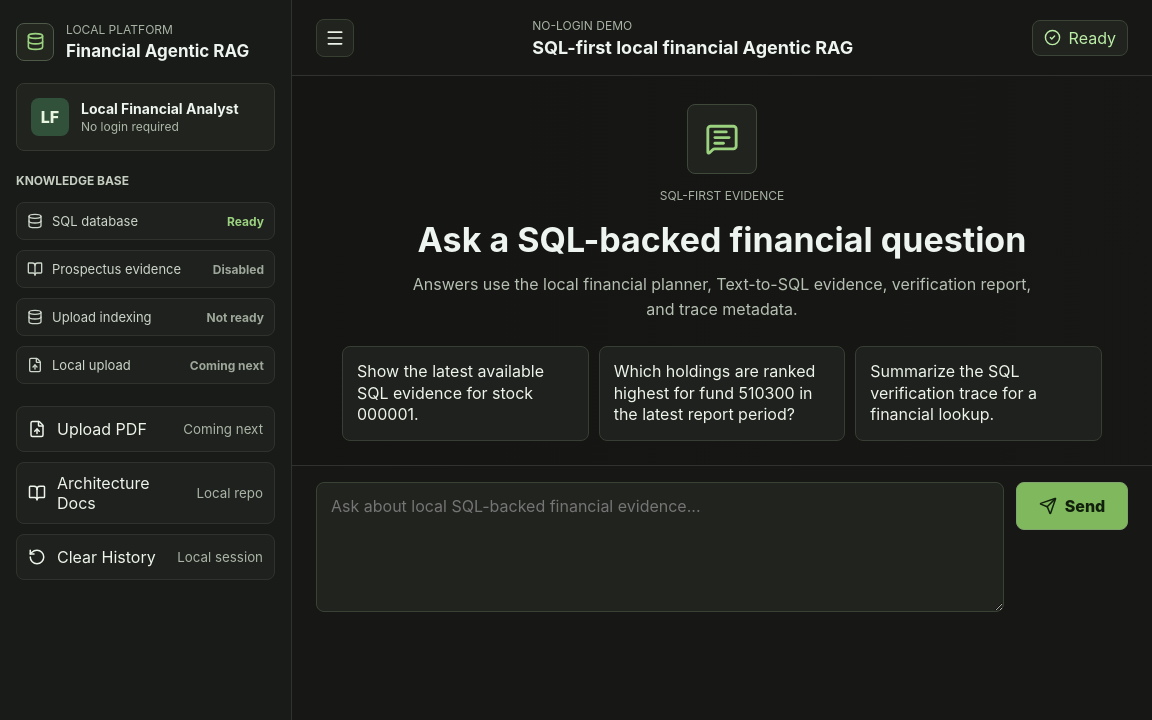
Test: local financial platform UI › renders readable API errors
Type "Broken" into the text box named "Financial question".
click(660, 547); type("Broken")  # box [316,482,1004,612]
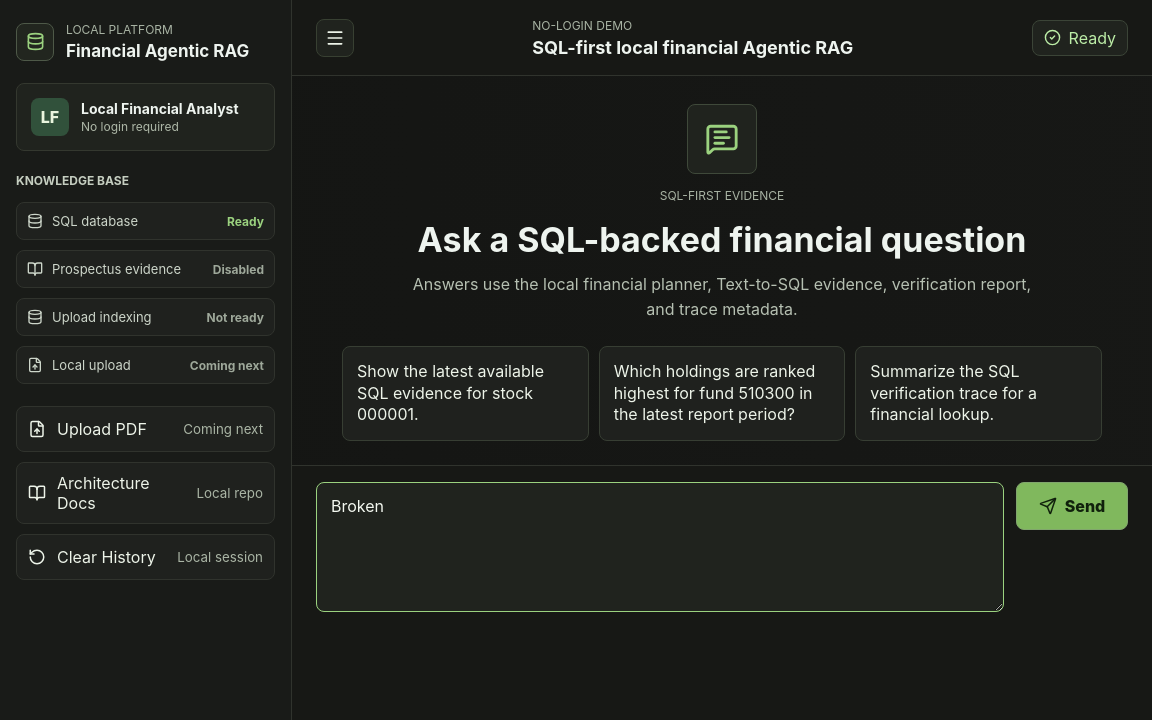
Click the button with aria-label "Send question".
click(1072, 506)  # box [1016,482,1128,530]
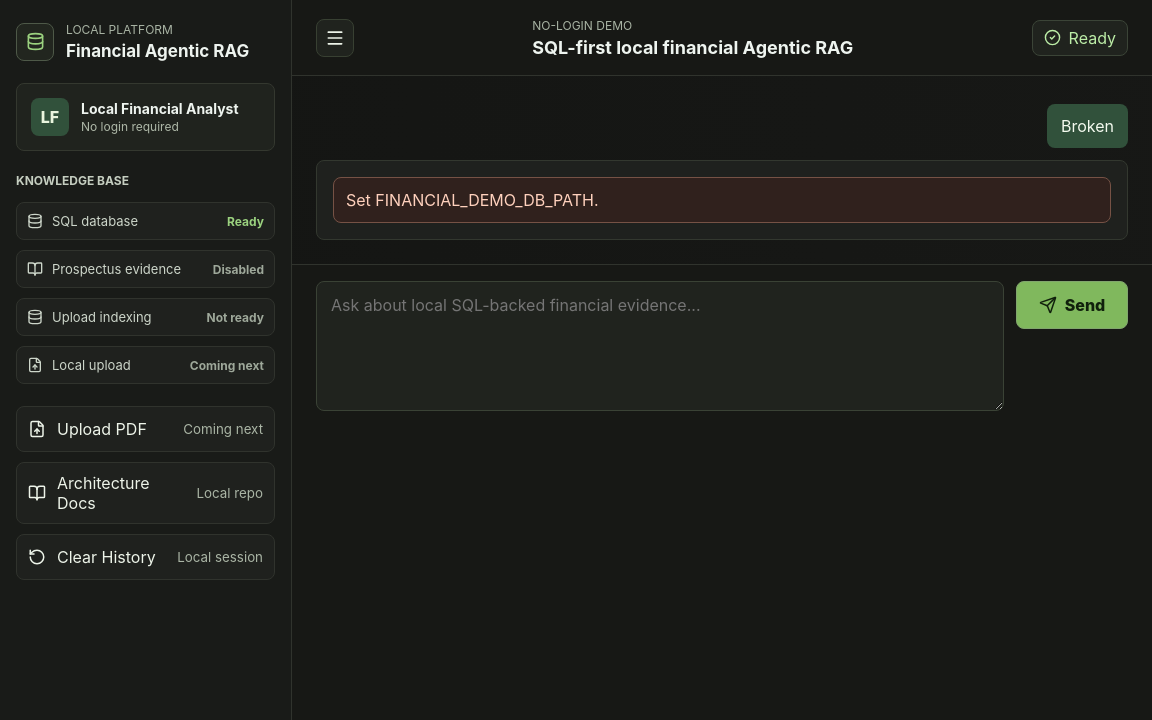
Expected: the text "Set FINANCIAL_DEMO_DB_PATH." is shown, [333,177,1111,223]
